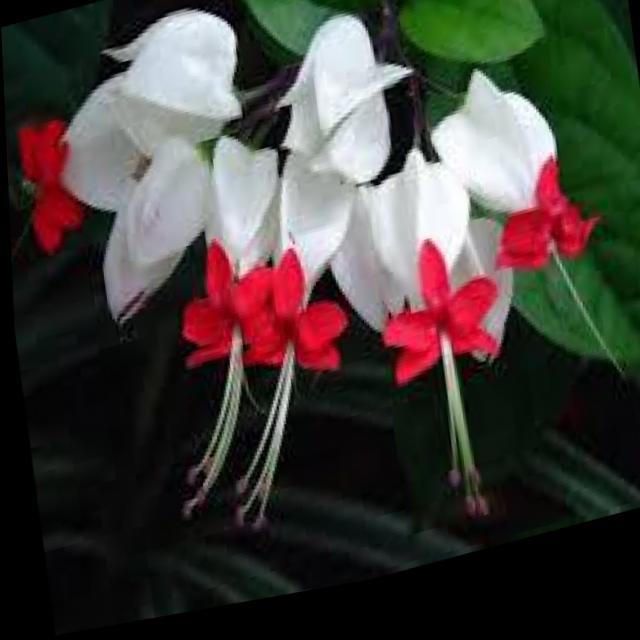Flower: (413, 42, 607, 316), (323, 141, 511, 423), (227, 116, 372, 411), (155, 118, 298, 410)
